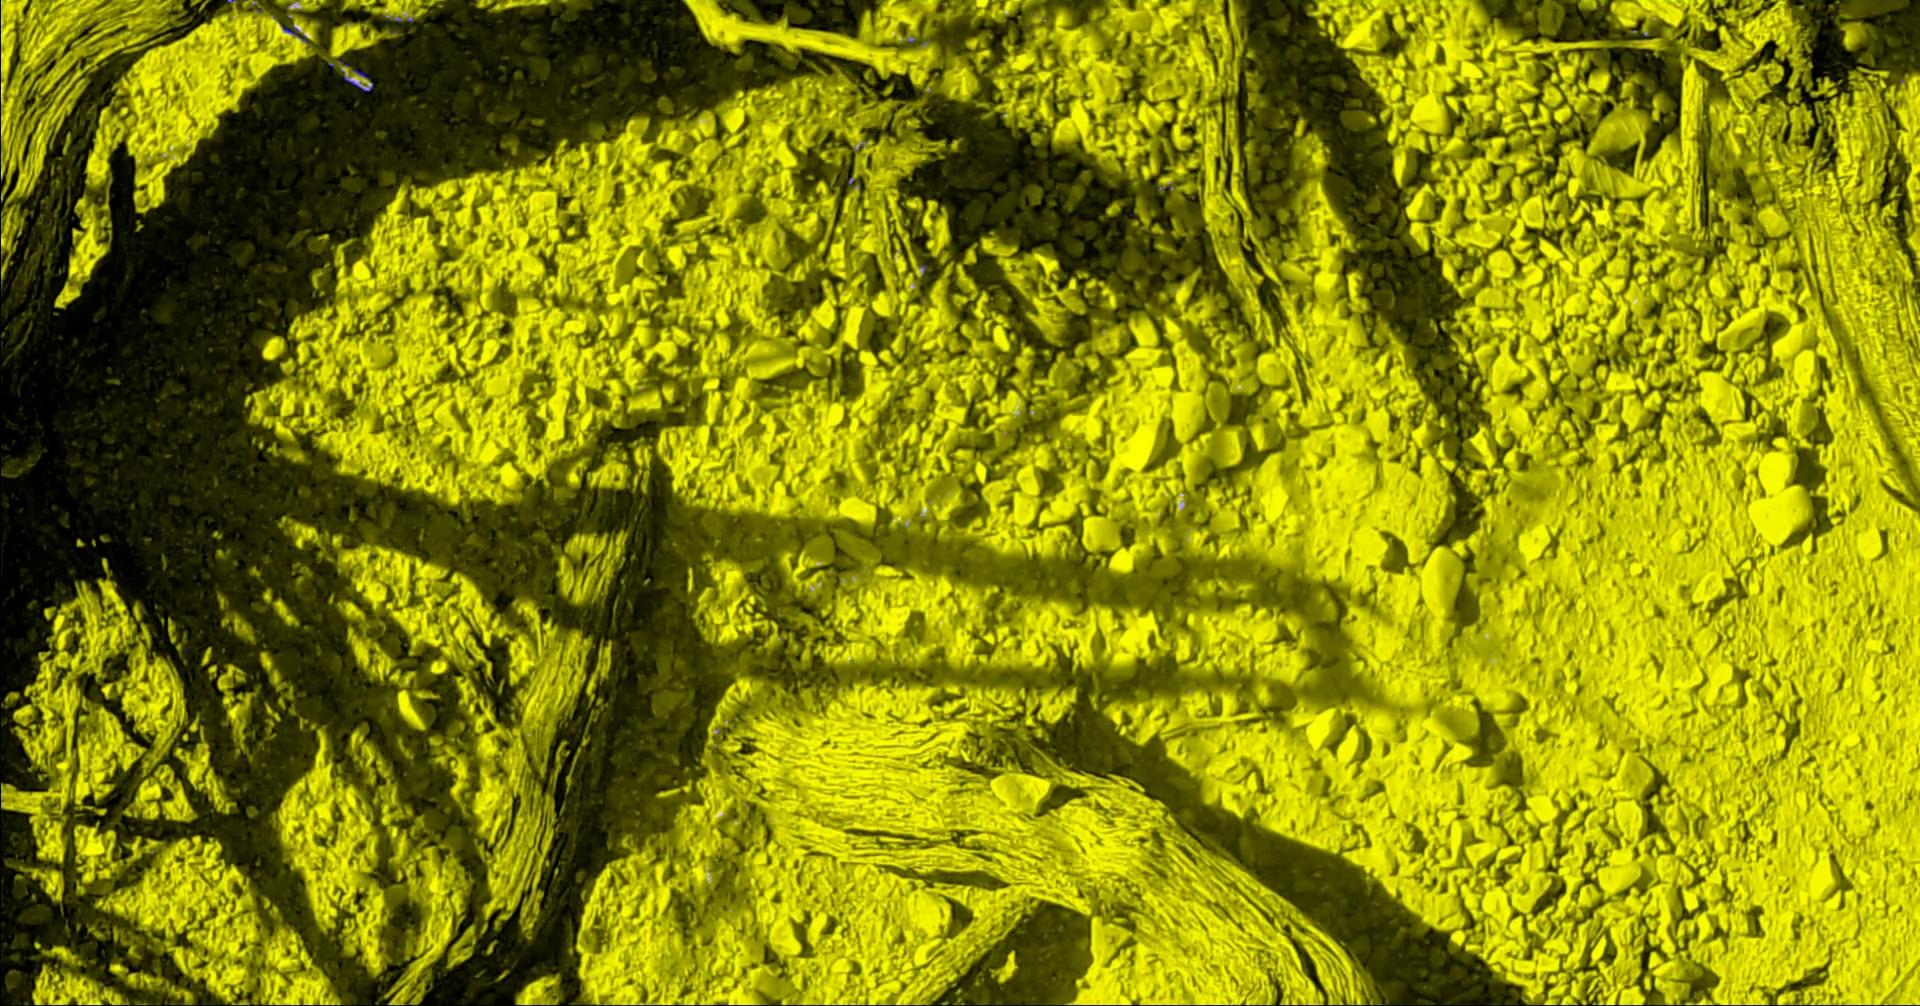ant: (279, 23, 310, 43)
